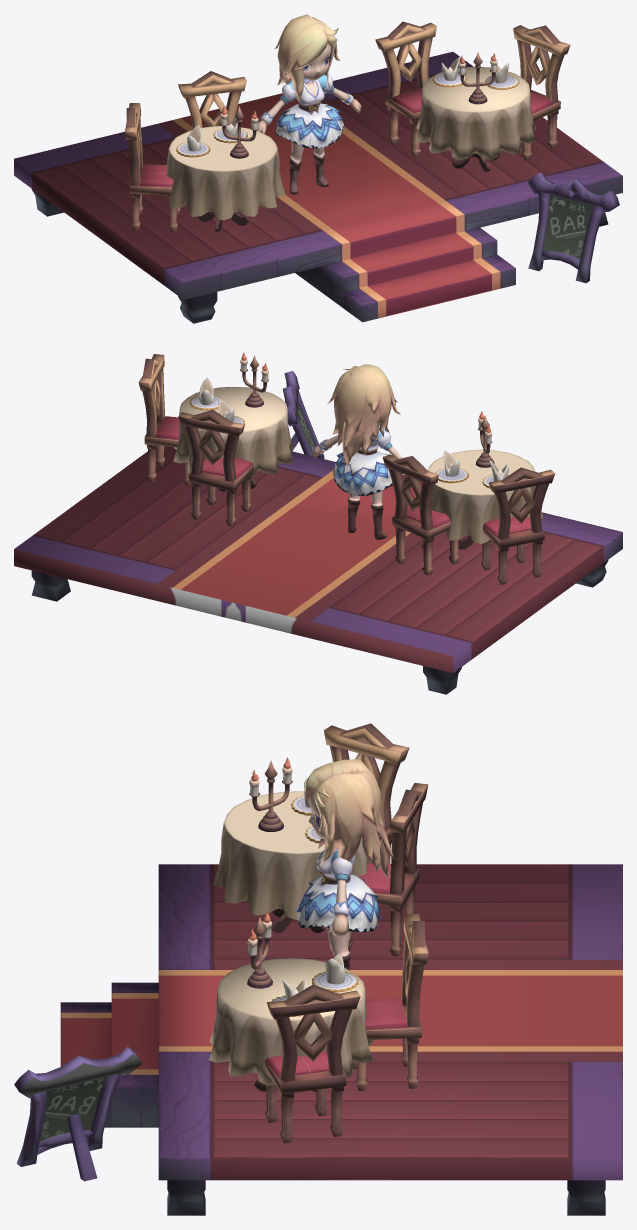
The model's file is dining_room.fbx.
3 views of the same model, one above another, from view 1: azimuth 30°, elevation 25°; view 2: azimuth 150°, elevation 25°; view 3: azimuth 270°, elevation 25° (orthographic). The views are drawn at different scales.
Visible parts, largest first — view 1: Box001, Sphere003, Sphere002, Sphere001, Box012, Box013, Box011, Box014, Box010, Object002, Object001, Object004 (+1 smaller); view 2: Box001, Sphere001, Sphere003, Sphere002, Box013, Box014, Box010, Box011, Box012, Object001, Object002, Object003 (+1 smaller); view 3: Box001, Sphere001, Sphere002, Sphere003, Box011, Box012, Box013, Box010, Box014, Object002, Object001, Object003.
Part boxes in pixels (x1=…): Box001: x1=14, y1=51, x2=622, y2=323; Sphere003: x1=416, y1=67, x2=536, y2=171; Sphere002: x1=163, y1=126, x2=285, y2=231; Sphere001: x1=256, y1=14, x2=361, y2=194; Box012: x1=528, y1=173, x2=619, y2=283; Box013: x1=375, y1=21, x2=436, y2=157; Box011: x1=513, y1=25, x2=570, y2=160; Box014: x1=124, y1=103, x2=180, y2=231; Box010: x1=178, y1=71, x2=246, y2=129; Object002: x1=220, y1=106, x2=258, y2=158; Object001: x1=458, y1=52, x2=497, y2=104; Object004: x1=187, y1=117, x2=237, y2=151; Box001: x1=14, y1=446, x2=622, y2=694; Sphere001: x1=312, y1=364, x2=402, y2=539; Sphere003: x1=173, y1=387, x2=293, y2=491; Sphere002: x1=427, y1=449, x2=543, y2=549; Box013: x1=178, y1=409, x2=253, y2=526; Box014: x1=481, y1=467, x2=555, y2=584; Box010: x1=382, y1=454, x2=459, y2=575; Box011: x1=138, y1=354, x2=190, y2=485; Box012: x1=283, y1=371, x2=324, y2=458; Object001: x1=240, y1=352, x2=268, y2=407; Object002: x1=475, y1=411, x2=494, y2=467; Object003: x1=199, y1=378, x2=234, y2=422; Box001: x1=60, y1=864, x2=622, y2=1215; Sphere001: x1=296, y1=759, x2=395, y2=970; Sphere002: x1=213, y1=791, x2=370, y2=933; Sphere003: x1=209, y1=958, x2=373, y2=1102; Box011: x1=264, y1=985, x2=360, y2=1143; Box012: x1=14, y1=1046, x2=142, y2=1181; Box013: x1=352, y1=913, x2=428, y2=1090; Box010: x1=349, y1=783, x2=428, y2=956; Box014: x1=324, y1=723, x2=409, y2=863; Object002: x1=249, y1=757, x2=292, y2=831; Object001: x1=247, y1=911, x2=272, y2=988; Object003: x1=282, y1=954, x2=345, y2=999.
Bounding box in the file's own units: 817 × 383 × 718.
Materials: 5 (5 with a texture image).
